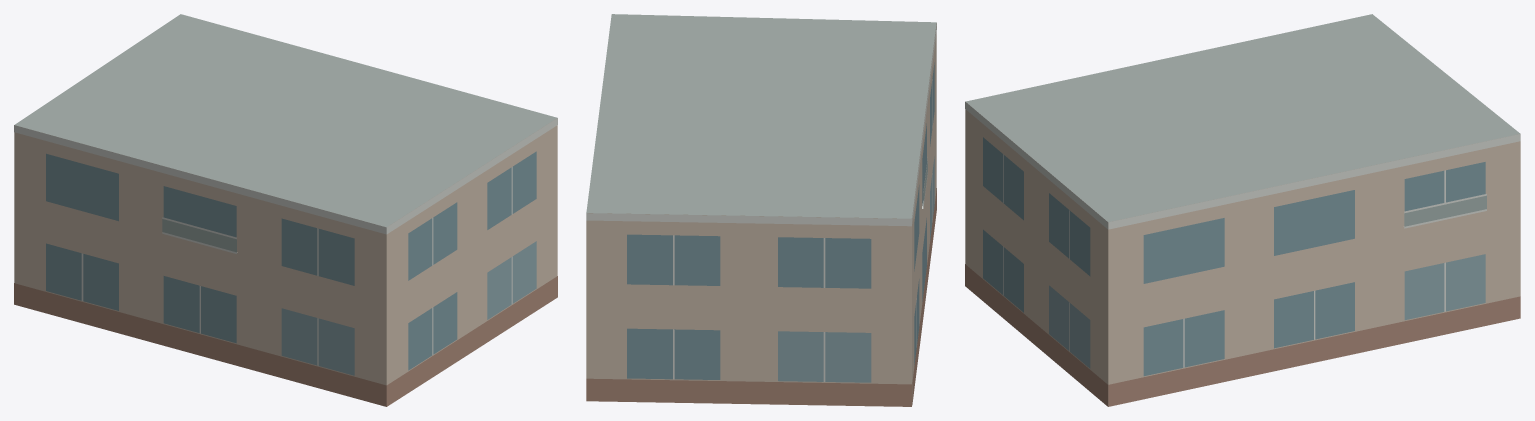
Rendered from survey-upis-32671808.glb.
3 renders of one model, left to right at view 1: azimuth 30°, elevation 25°; view 2: azimuth 150°, elevation 25°; view 3: azimuth 270°, elevation 25°, orthographic. The views are drawn at different scales.
Visible parts, largest first — view 1: survey-upis-32671808.tmp; view 2: survey-upis-32671808.tmp; view 3: survey-upis-32671808.tmp.
Part boxes in pixels (<box>): survey-upis-32671808.tmp: <box>14,14,557,406</box>; survey-upis-32671808.tmp: <box>586,14,936,406</box>; survey-upis-32671808.tmp: <box>965,14,1520,406</box>.
Size of the model in its own units: 14.77 by 6.1 by 16.64.
